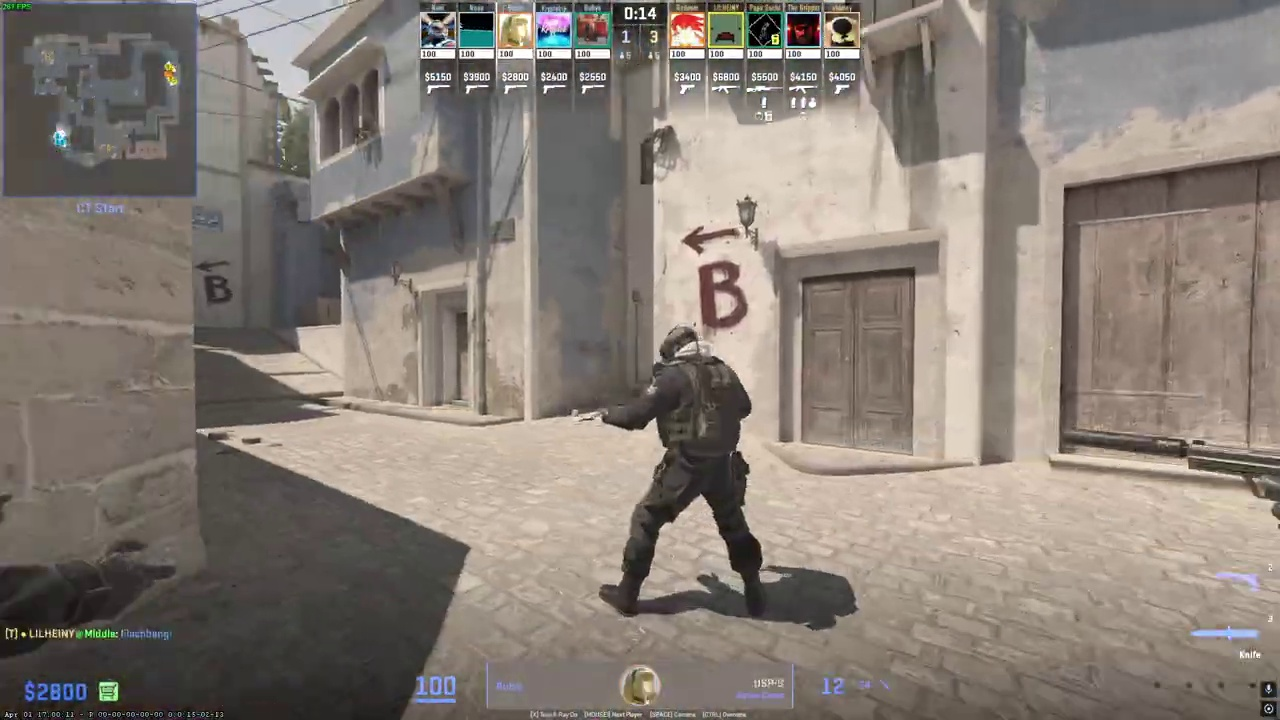CT: (613, 324, 764, 617)
